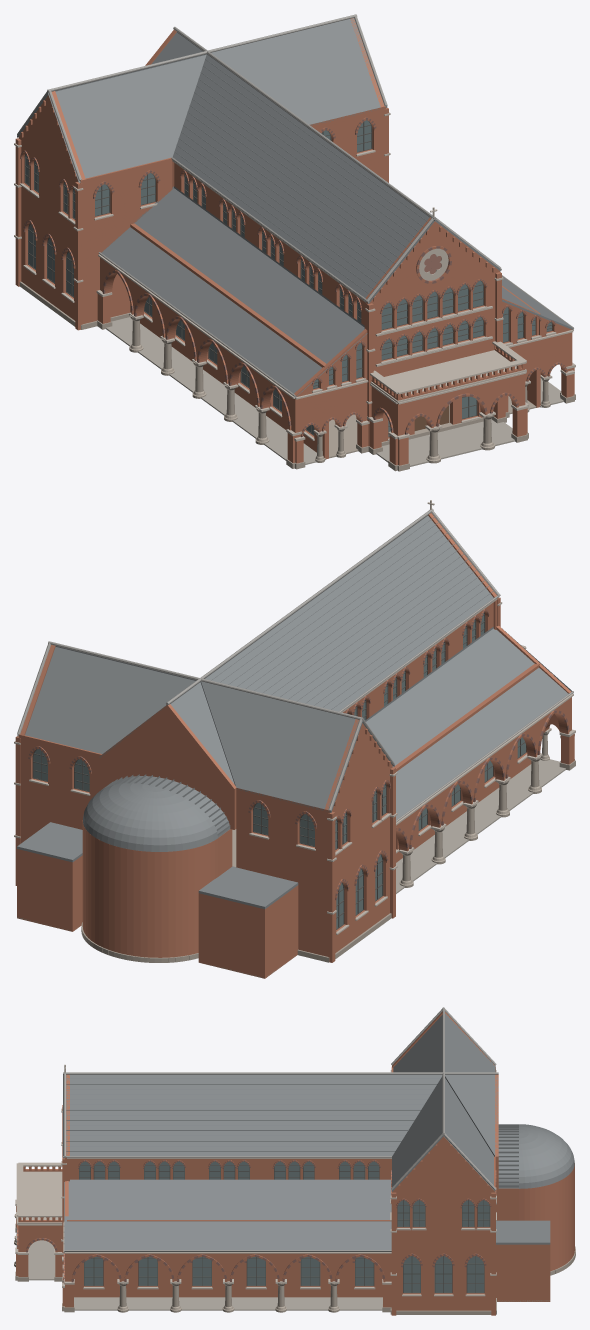
The model's file is huangpu-holy-trinity-cathedral-web.glb.
3 views of the same model, one above another, from view 1: azimuth 30°, elevation 25°; view 2: azimuth 150°, elevation 25°; view 3: azimuth 270°, elevation 25° (orthographic). The views are drawn at different scales.
Parts seen in each view (by area): view 1: 圣三一基督教堂（主堂与花园门廊）; view 2: 圣三一基督教堂（主堂与花园门廊）; view 3: 圣三一基督教堂（主堂与花园门廊）.
Part boxes in pixels (x1,y1,x2,y2): 圣三一基督教堂（主堂与花园门廊）: (14,14,575,471); 圣三一基督教堂（主堂与花园门廊）: (14,500,575,978); 圣三一基督教堂（主堂与花园门廊）: (14,1007,575,1315).
Bounding box in the file's own units: 27.56 × 19.04 × 51.21.
